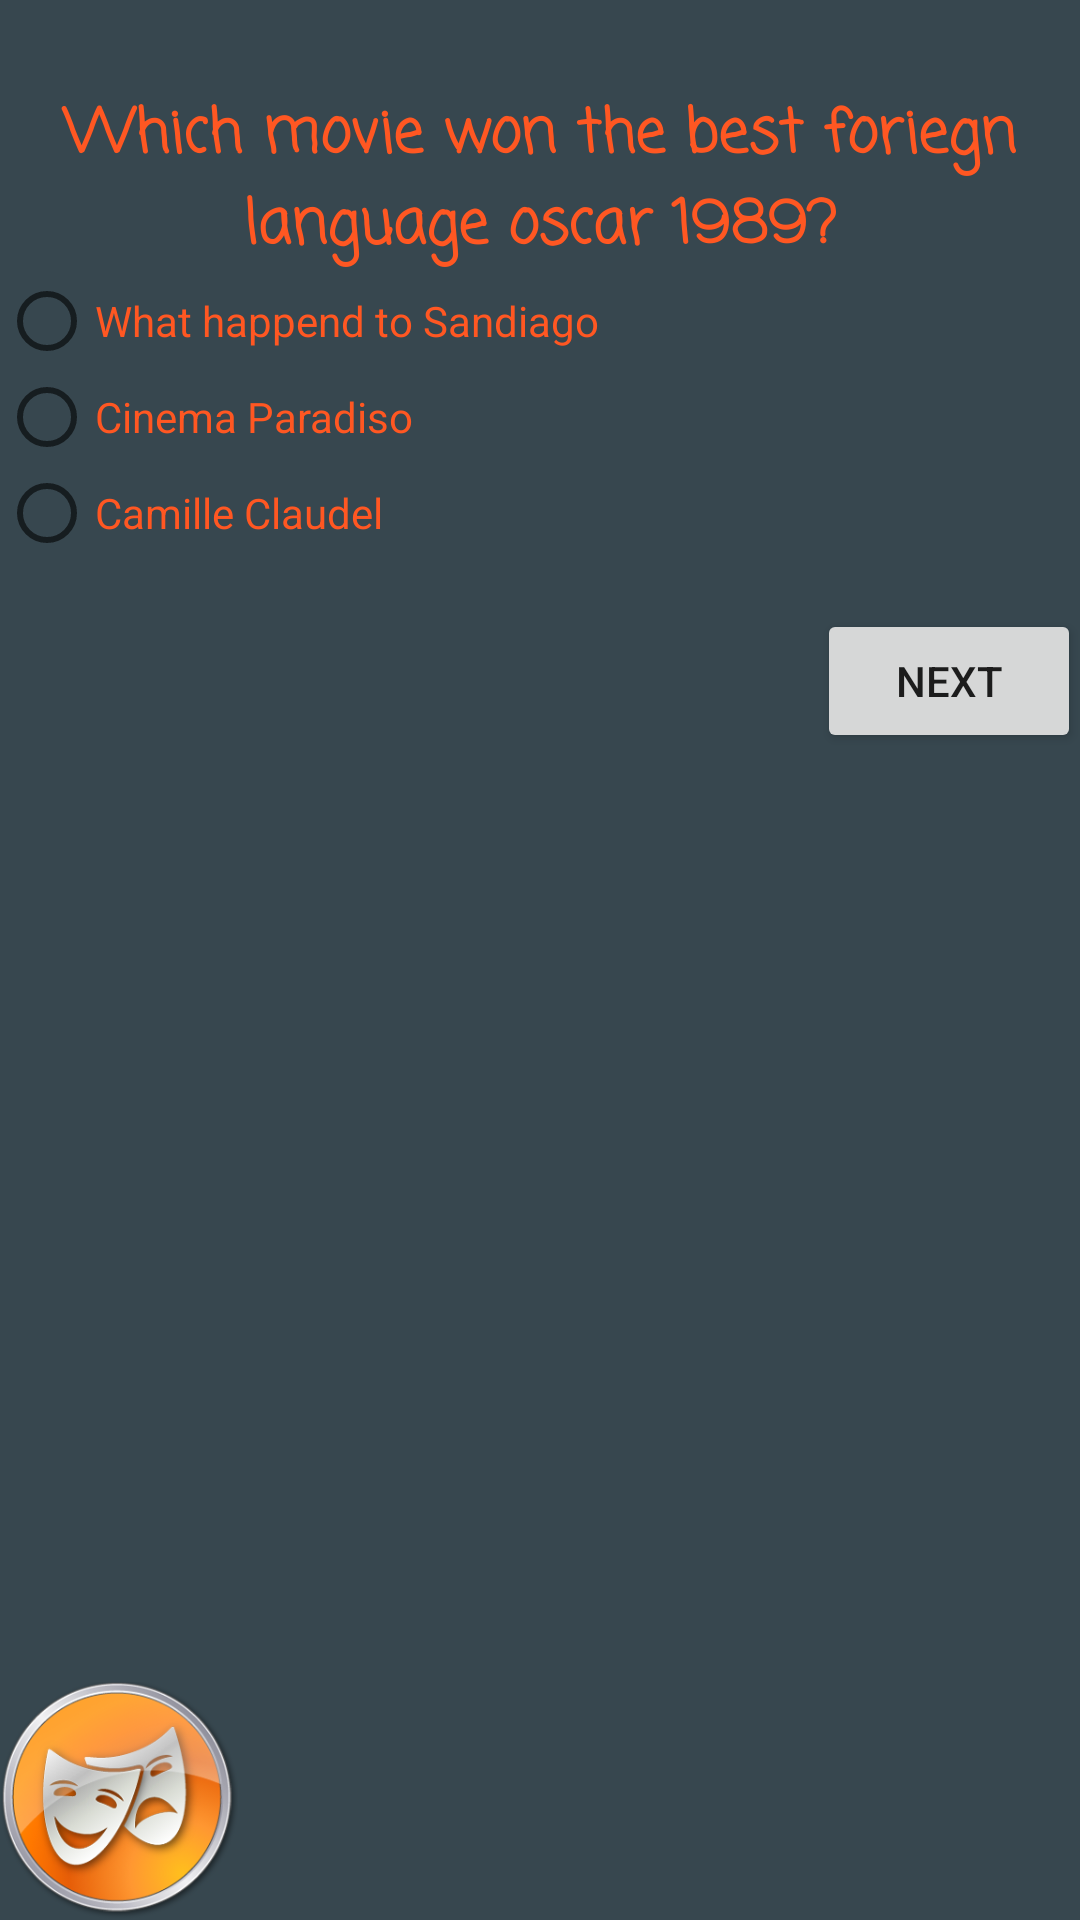

Icons on this 1080px×1920px Android screen, each with its box as (x1, y1, x2, y2):
theater: (3, 1683, 232, 1913)
